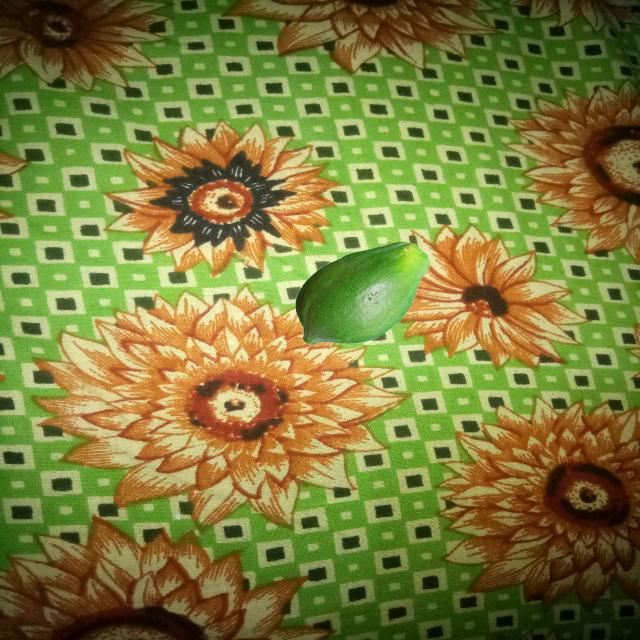Pepaya unrippen: (294, 245, 433, 341)
